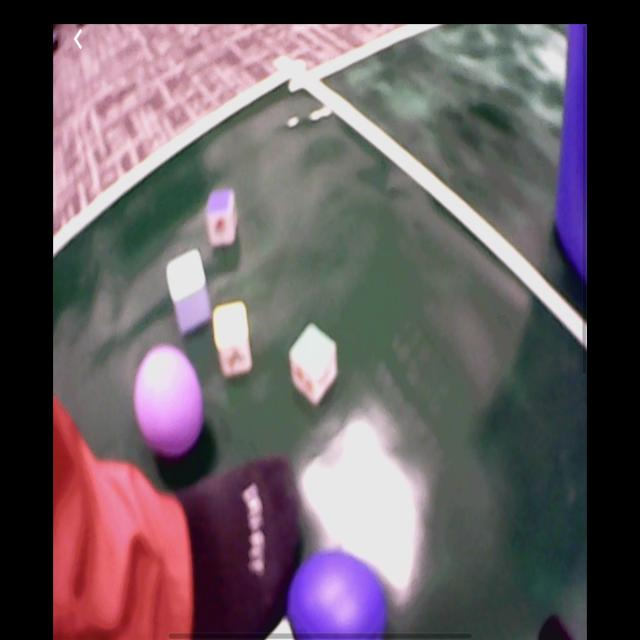ball: (286, 552, 386, 640), (134, 342, 205, 459)
